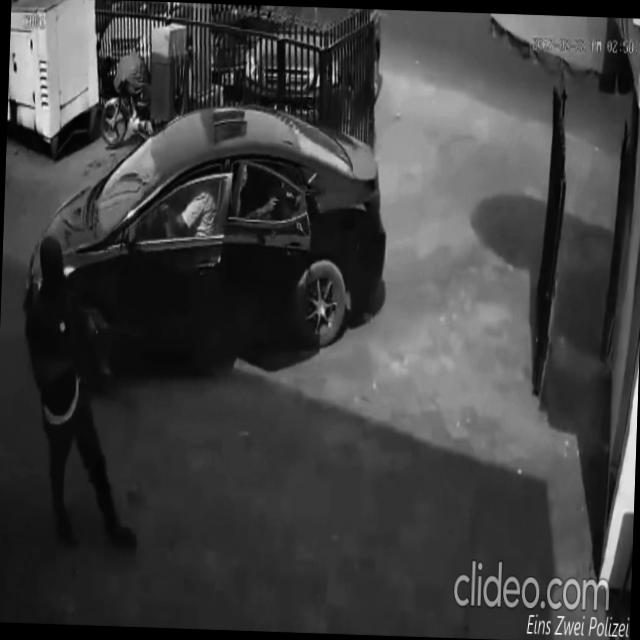gun: (65, 306, 152, 384), (258, 176, 324, 226)
person with a gun: (15, 232, 154, 554), (238, 162, 326, 236)
